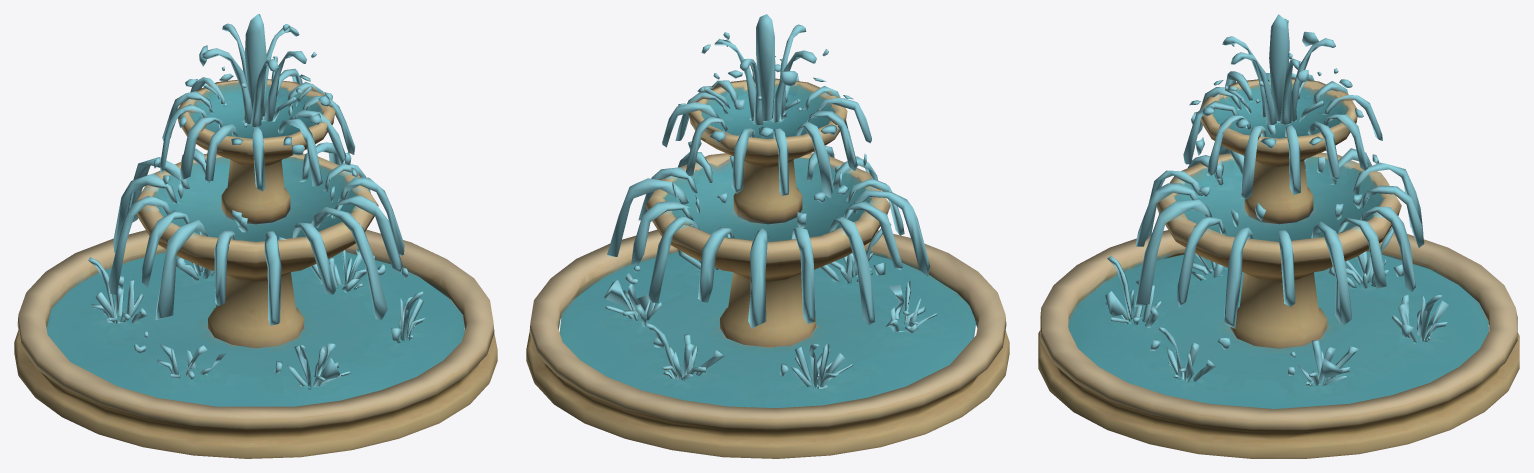
File: 019e4bce-40b0-7a13-98e9-48164168ceef.glb
3 views of the same model, side by side, from view 1: azimuth 30°, elevation 25°; view 2: azimuth 150°, elevation 25°; view 3: azimuth 270°, elevation 25° (orthographic).
Parts seen in each view (by area): view 1: tripo_node_4b90f95f-693c-4541-b11f-abe1001ffa6a; view 2: tripo_node_4b90f95f-693c-4541-b11f-abe1001ffa6a; view 3: tripo_node_4b90f95f-693c-4541-b11f-abe1001ffa6a.
Part boxes in pixels (x1,y1,x2,y2): tripo_node_4b90f95f-693c-4541-b11f-abe1001ffa6a: (14, 14, 497, 458); tripo_node_4b90f95f-693c-4541-b11f-abe1001ffa6a: (526, 14, 1009, 458); tripo_node_4b90f95f-693c-4541-b11f-abe1001ffa6a: (1038, 14, 1519, 458).
Size of the model in its own units: 0.998 by 0.7871 by 0.998.
Materials: 1 (1 with a texture image).
